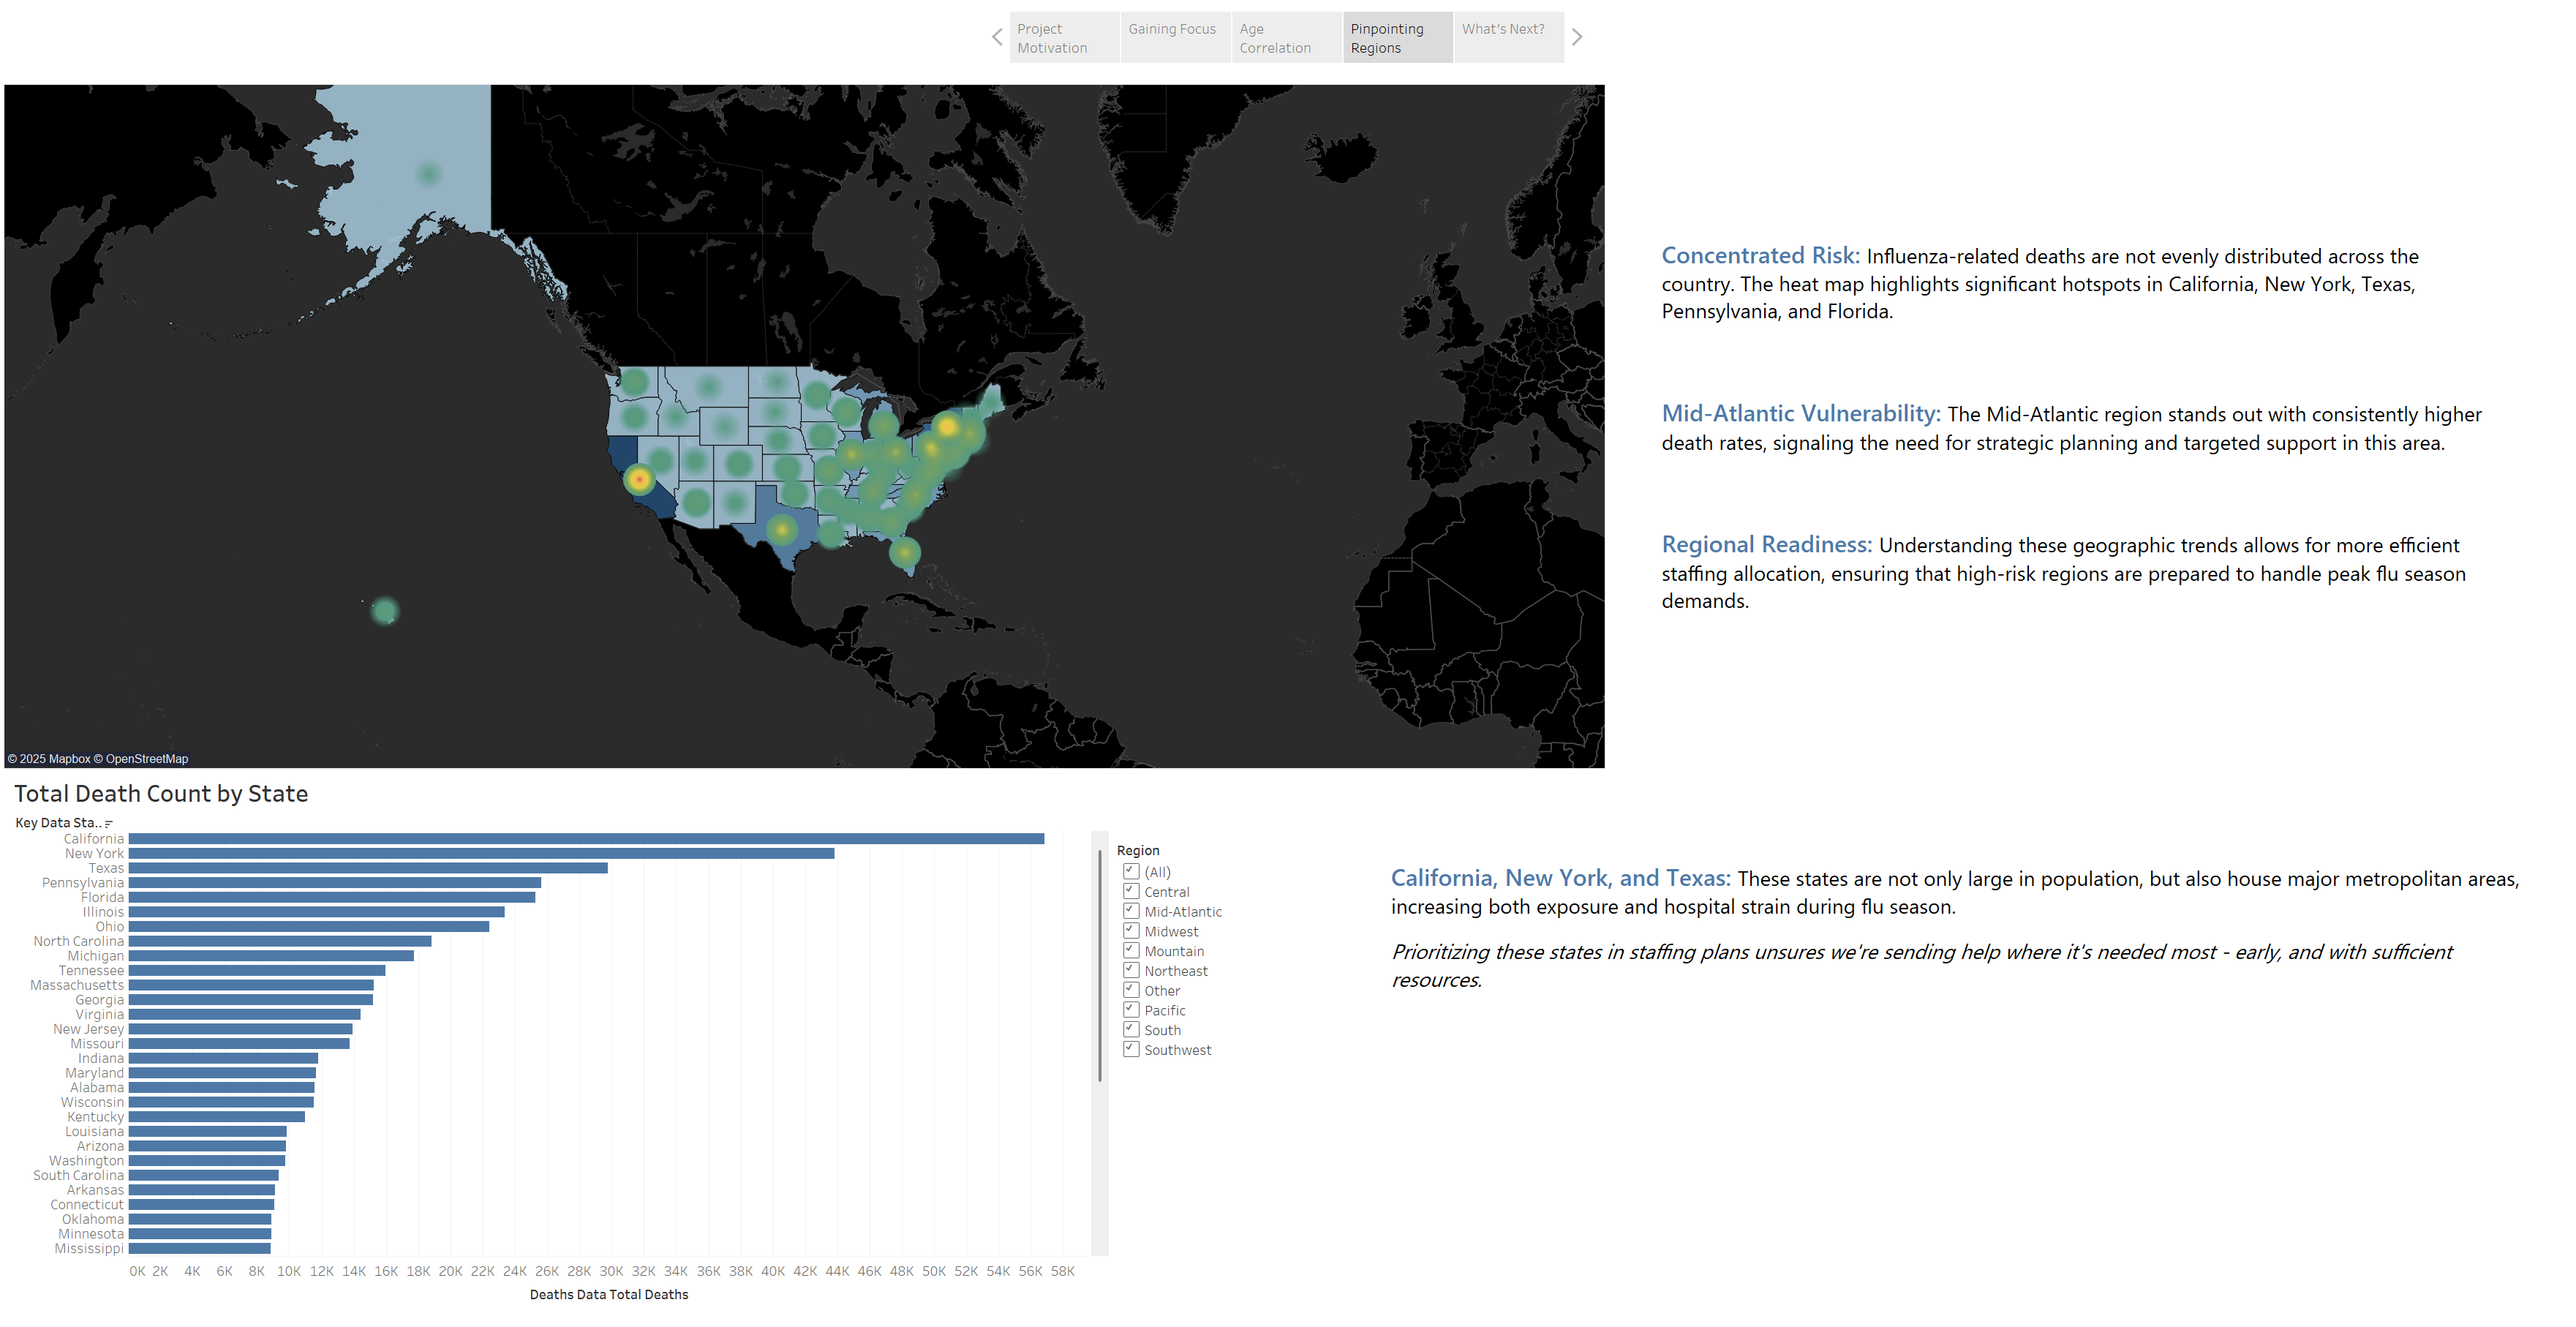

The page's visual inventory and layout, read from the dashboard file:
{"tool":"tableau","page":{"name":"Region Focus","canvas":[1000,1000],"units":"permille","ordinal":4},"visuals":[{"type":"text","box":[644.7,23.1,327.2,516.2]},{"type":"text","box":[632.4,31.9,335.1,203.7]},{"type":"worksheet","title":"Total Death Count by State","mark":"Automatic","rows":["Key Data State"],"cols":["Deaths Data Total Deaths"],"box":[2.6,557.9,427.8,428.9]},{"type":"text","box":[539.2,576.3,446.5,210.6]},{"type":"filter","title":"Total Death Count by State","param":"[federated.0y0kzsj1l8xbhz1h5ww0w1sx6vbn].[none:Calculation_1206401809758007299:n","box":[433.6,612.1,83.8,256.6]}]}

Visuals, with their boxes on the dashboard's canvas, which has no fixed pixel size, in thousandths of its width and height (x1, y1, x2, y2). These are canvas units, not pixel positions in the 2576x1327 screenshot, which may show the page scaled, cropped or inside an application window:
text: x1=645 y1=23 x2=972 y2=539
text: x1=632 y1=32 x2=968 y2=236
"Total Death Count by State" worksheet: x1=3 y1=558 x2=430 y2=987
text: x1=539 y1=576 x2=986 y2=787
"Total Death Count by State" filter: x1=434 y1=612 x2=517 y2=869
